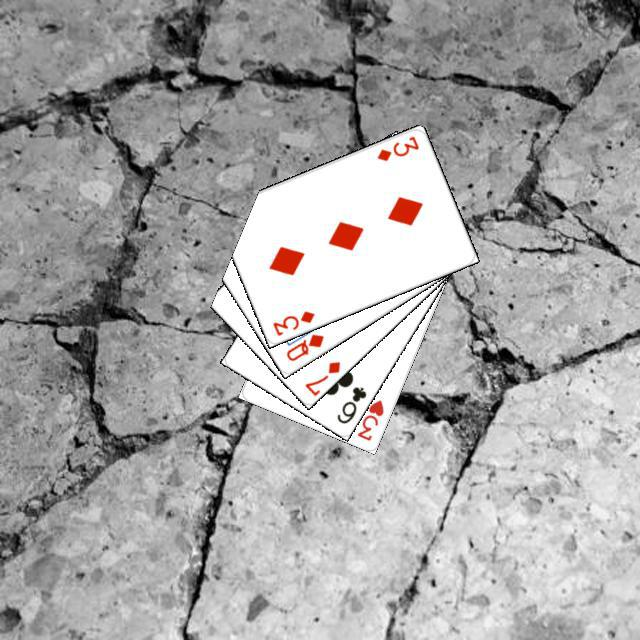3d: (372, 131, 421, 163), (268, 306, 316, 337)
3h: (352, 395, 385, 442)
6c: (332, 381, 368, 426)
7d: (300, 356, 342, 397)
Qd: (281, 329, 326, 363)
